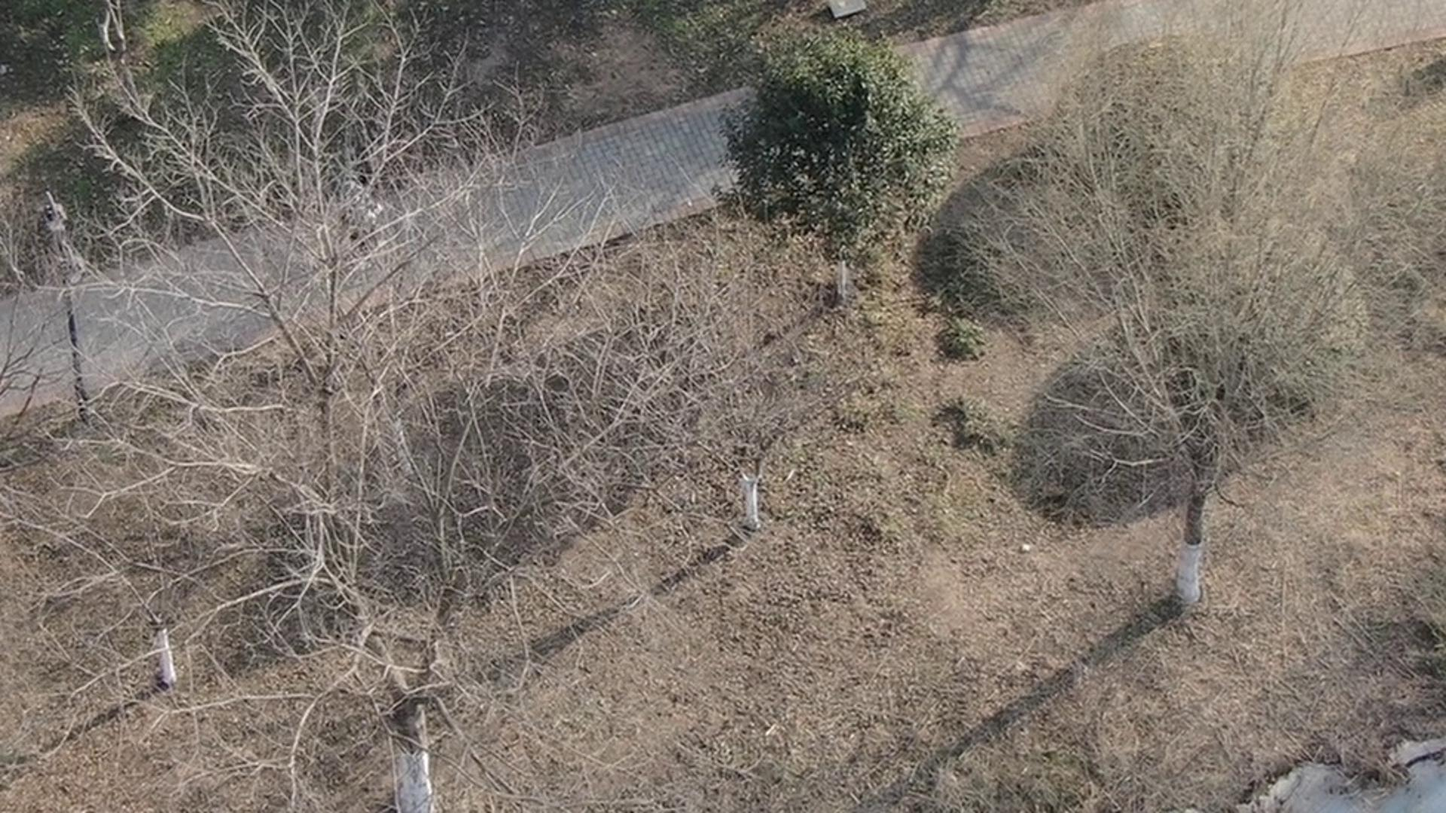human: (348, 182, 406, 279)
